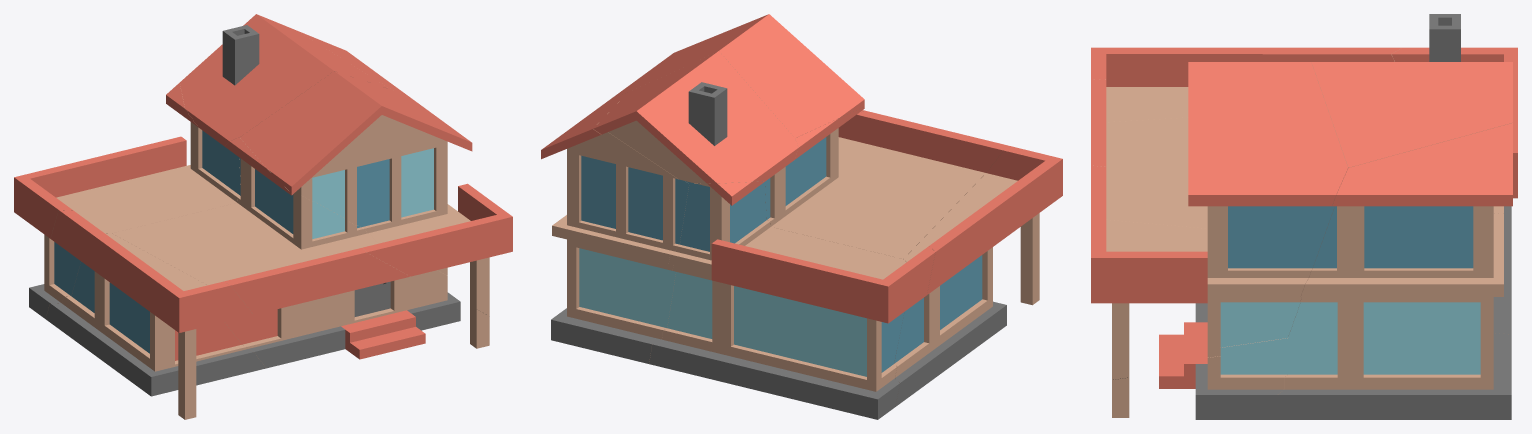
Rendered from House 1.4 Fractured.fbx.
3 views of the same model, side by side, from view 1: azimuth 30°, elevation 25°; view 2: azimuth 150°, elevation 25°; view 3: azimuth 270°, elevation 25° (orthographic). The views are drawn at different scales.
Visible parts, largest first — view 1: House_Type1_4_Breaking_cell.003, House_Type1_4_Breaking_cell, House_Type1_4_Breaking_cell.001, House_Type1_4_Breaking_cell.002, House_Type1_4_Breaking_cell.004, House_Type1_4_Breaking_cell.005; view 2: House_Type1_4_Breaking_cell.002, House_Type1_4_Breaking_cell.005, House_Type1_4_Breaking_cell.003, House_Type1_4_Breaking_cell.001, House_Type1_4_Breaking_cell.004, House_Type1_4_Breaking_cell; view 3: House_Type1_4_Breaking_cell.005, House_Type1_4_Breaking_cell, House_Type1_4_Breaking_cell.003, House_Type1_4_Breaking_cell.004, House_Type1_4_Breaking_cell.001, House_Type1_4_Breaking_cell.002.
Boxes of the visible parts, x1,y1,x2,y2 form: House_Type1_4_Breaking_cell.003: (112,137,489,368); House_Type1_4_Breaking_cell: (240,71,512,315); House_Type1_4_Breaking_cell.001: (45,210,266,419); House_Type1_4_Breaking_cell.002: (14,82,240,318); House_Type1_4_Breaking_cell.004: (180,14,390,146); House_Type1_4_Breaking_cell.005: (298,31,413,99); House_Type1_4_Breaking_cell.002: (649,181,935,419); House_Type1_4_Breaking_cell.005: (541,93,689,363); House_Type1_4_Breaking_cell.003: (765,107,1007,259); House_Type1_4_Breaking_cell.001: (894,145,1062,406); House_Type1_4_Breaking_cell.004: (593,51,798,183); House_Type1_4_Breaking_cell: (614,14,864,138); House_Type1_4_Breaking_cell.005: (1277,123,1512,419); House_Type1_4_Breaking_cell: (1091,62,1348,379); House_Type1_4_Breaking_cell.003: (1091,79,1287,419); House_Type1_4_Breaking_cell.004: (1311,14,1512,167); House_Type1_4_Breaking_cell.001: (1091,47,1401,122); House_Type1_4_Breaking_cell.002: (1391,47,1517,334).
Size of the model in its own units: 719 by 510 by 616.
